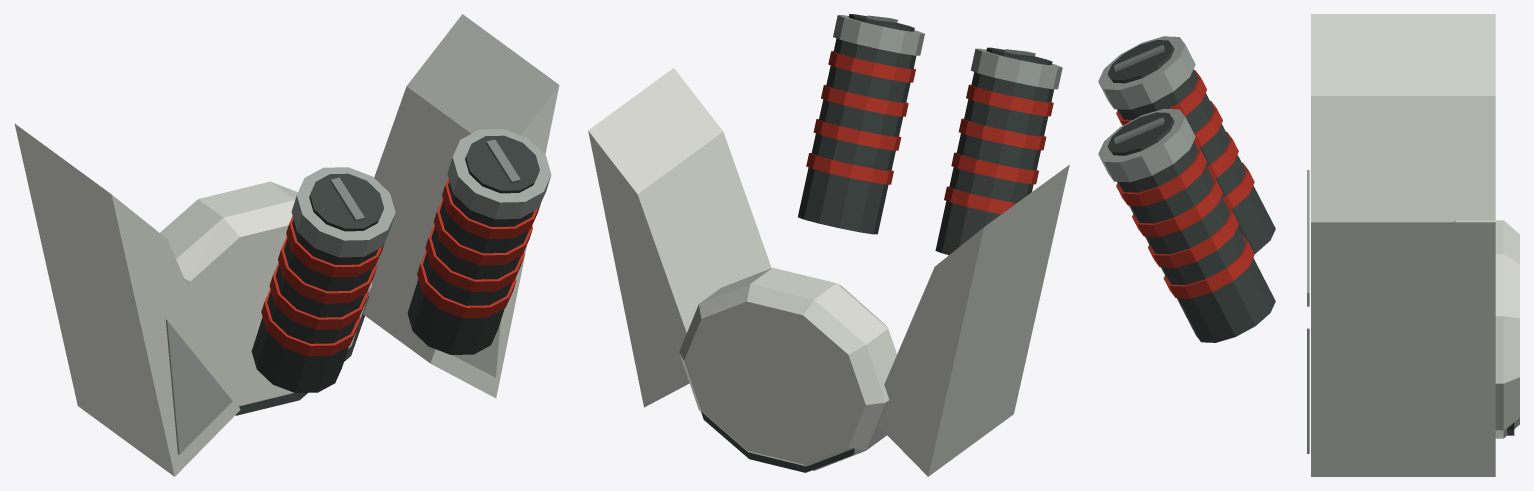
Rendered from diabolus.obj.
The picture shows the model from 3 angles, left to right: view 1: azimuth 30°, elevation 25°; view 2: azimuth 150°, elevation 25°; view 3: azimuth 270°, elevation 25°; orthographic projection. The views are drawn at different scales.
Parts seen in each view (by area): view 1: diabolus; view 2: diabolus; view 3: diabolus.
Boxes of the visible parts, x1,y1,x2,y2 form: diabolus: (14, 14, 559, 476); diabolus: (588, 14, 1069, 476); diabolus: (1098, 14, 1519, 476).
Bounding box in the file's own units: 1.84 × 1.4 × 1.57.
